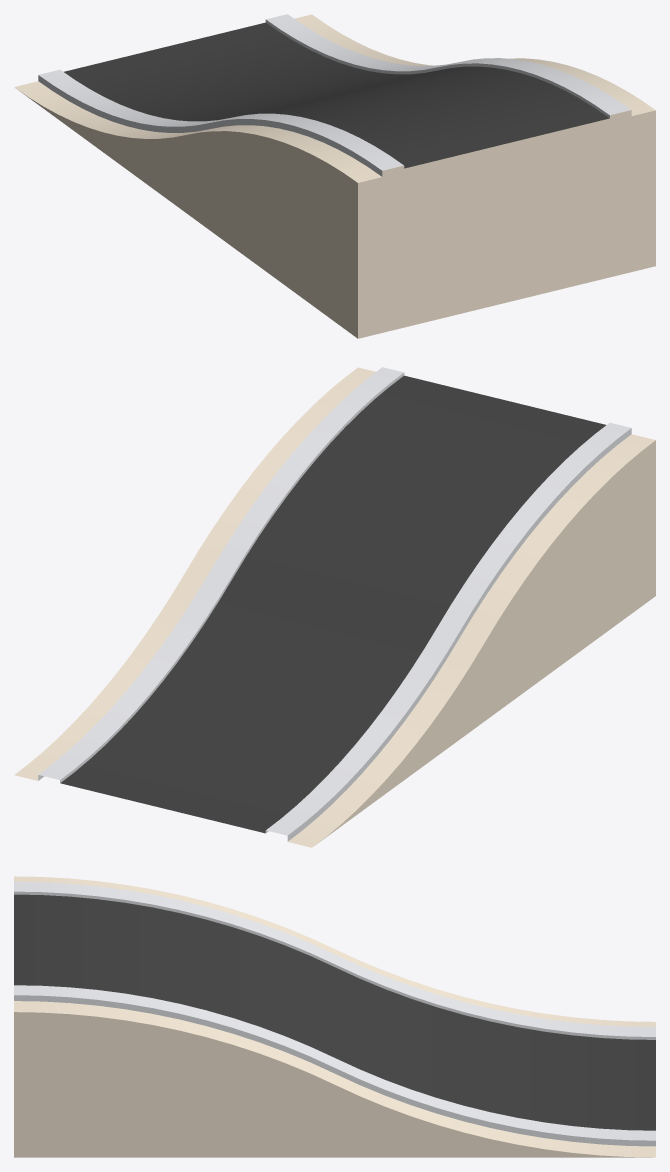
The model's file is road-ramp-long-curved-wall.dae.
The picture shows the model from 3 angles, top to bottom: view 1: azimuth 30°, elevation 25°; view 2: azimuth 150°, elevation 25°; view 3: azimuth 270°, elevation 25°; orthographic projection. The views are drawn at different scales.
Parts seen in each view (by area): view 1: roadRampLongCurvedWall; view 2: roadRampLongCurvedWall; view 3: roadRampLongCurvedWall.
Boxes of the visible parts, box(x1,y1,x2,y2) form: roadRampLongCurvedWall: box(14, 14, 655, 338); roadRampLongCurvedWall: box(14, 367, 655, 847); roadRampLongCurvedWall: box(14, 876, 655, 1157).
Size of the model in its own units: 1 by 0.52 by 2.
